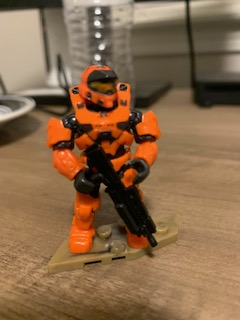rifle: (78, 142, 160, 249)
spartan: (47, 63, 165, 251)
